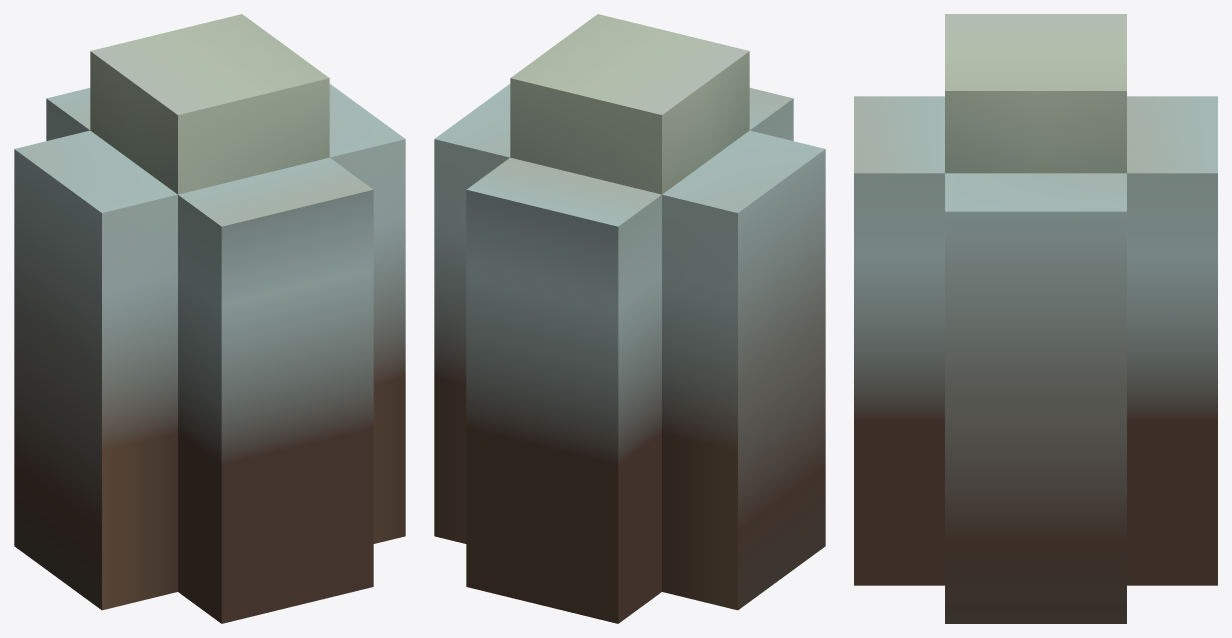
Rendered from ContainerBrown_01.obj.
The picture shows the model from 3 angles, left to right: view 1: azimuth 30°, elevation 25°; view 2: azimuth 150°, elevation 25°; view 3: azimuth 270°, elevation 25°; orthographic projection. The views are drawn at different scales.
Parts seen in each view (by area): view 1: ContainerBrown_01; view 2: ContainerBrown_01; view 3: ContainerBrown_01.
Part boxes in pixels (left/top/right/bottom): ContainerBrown_01: left=14, top=14, right=405, bottom=623; ContainerBrown_01: left=434, top=14, right=825, bottom=623; ContainerBrown_01: left=854, top=14, right=1217, bottom=623.
Bounding box in the file's own units: 0.2 × 0.3 × 0.2.
